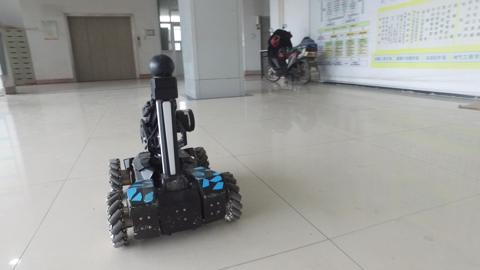chariot: (94, 49, 258, 253)
